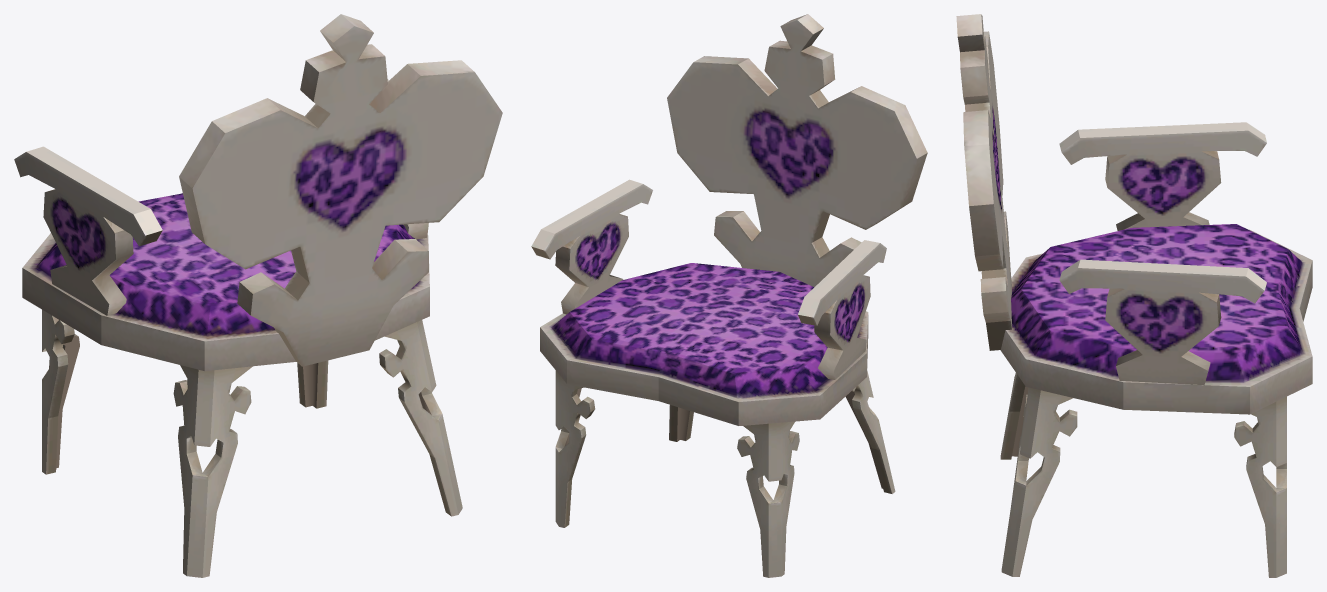
Rendered from furni_0200079_03.FBX.
The picture shows the model from 3 angles, left to right: view 1: azimuth 30°, elevation 25°; view 2: azimuth 150°, elevation 25°; view 3: azimuth 270°, elevation 25°; orthographic projection. The views are drawn at different scales.
Parts seen in each view (by area): view 1: furni_0200079_03; view 2: furni_0200079_03; view 3: furni_0200079_03.
Part boxes in pixels (x1,y1,x2,y2): furni_0200079_03: (14,14,502,577); furni_0200079_03: (531,14,927,577); furni_0200079_03: (956,14,1312,577).
Size of the model in its own units: 67.75 by 99.68 by 64.29.
1 material, 1 textured.
